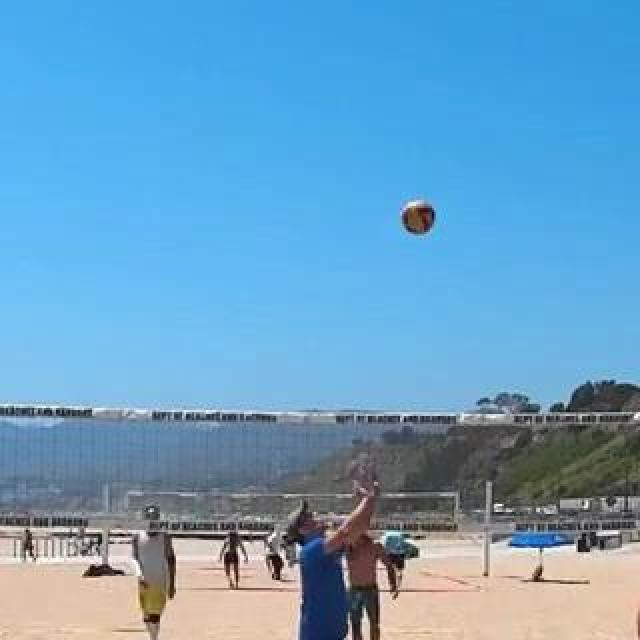volleyball: (402, 203, 436, 233)
